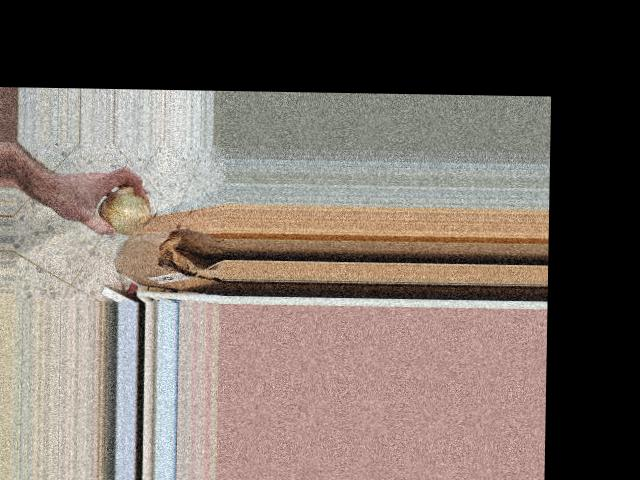onion: (98, 183, 157, 237)
